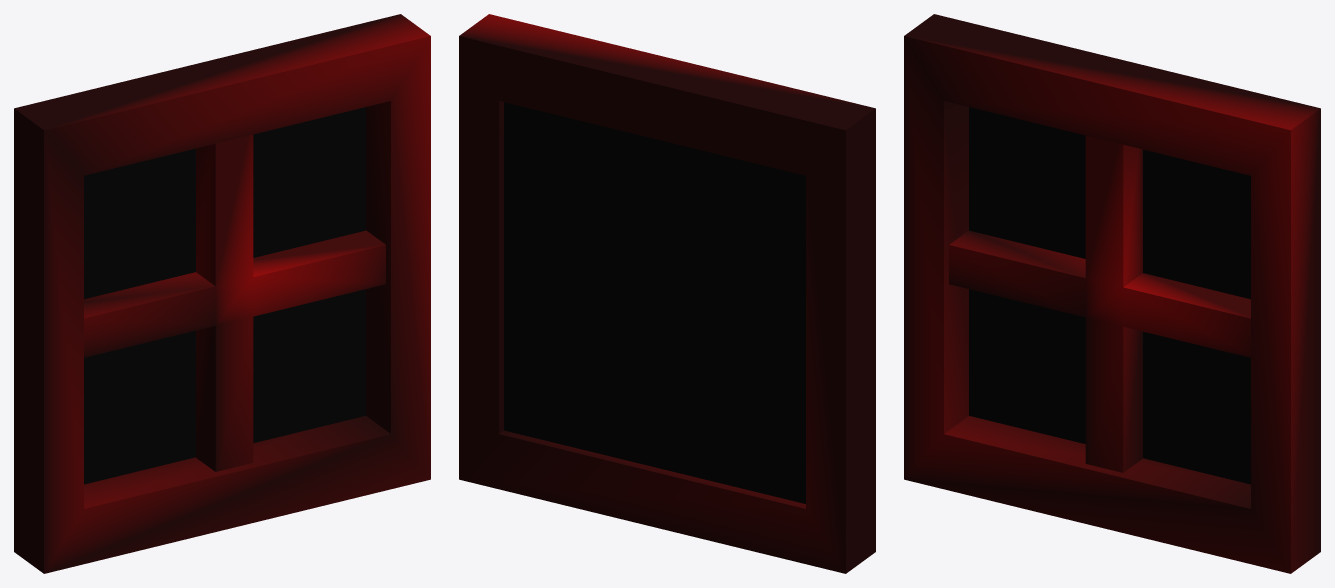
Rendered from WINDOW.fbx.
3 renders of one model, left to right at view 1: azimuth 30°, elevation 25°; view 2: azimuth 150°, elevation 25°; view 3: azimuth 330°, elevation 25°, orthographic.
Parts seen in each view (by area): view 1: polySurface2; view 2: polySurface2; view 3: polySurface2.
Boxes of the visible parts, left/top/right/bottom form: polySurface2: left=14, top=14, right=430, bottom=573; polySurface2: left=459, top=14, right=875, bottom=573; polySurface2: left=904, top=14, right=1320, bottom=573.
Size of the model in its own units: 75.26 by 82.5 by 10.12.
